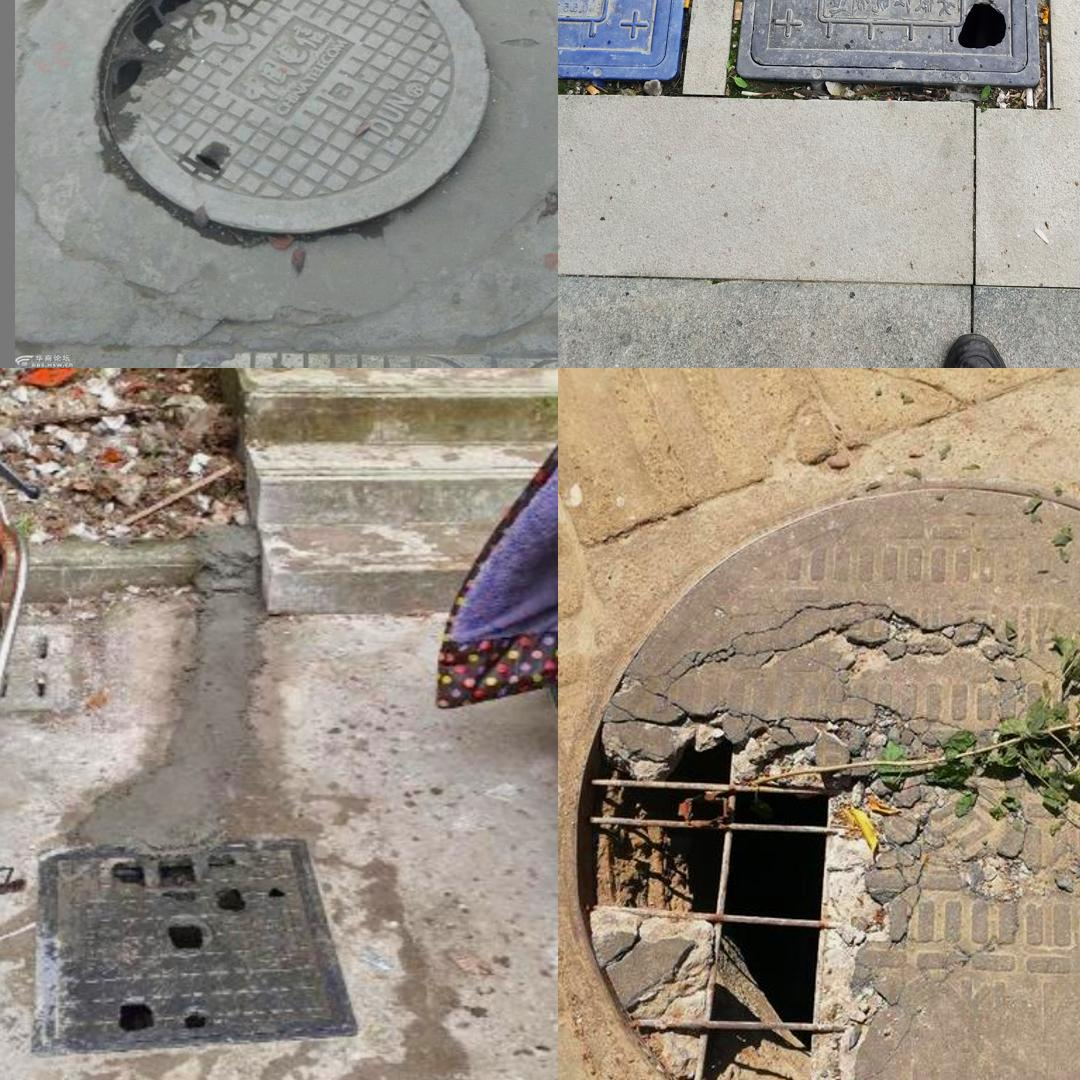broke: (576, 479, 1080, 1080), (30, 0, 529, 302), (26, 835, 358, 1063), (733, 0, 1040, 78), (558, 0, 723, 80)
